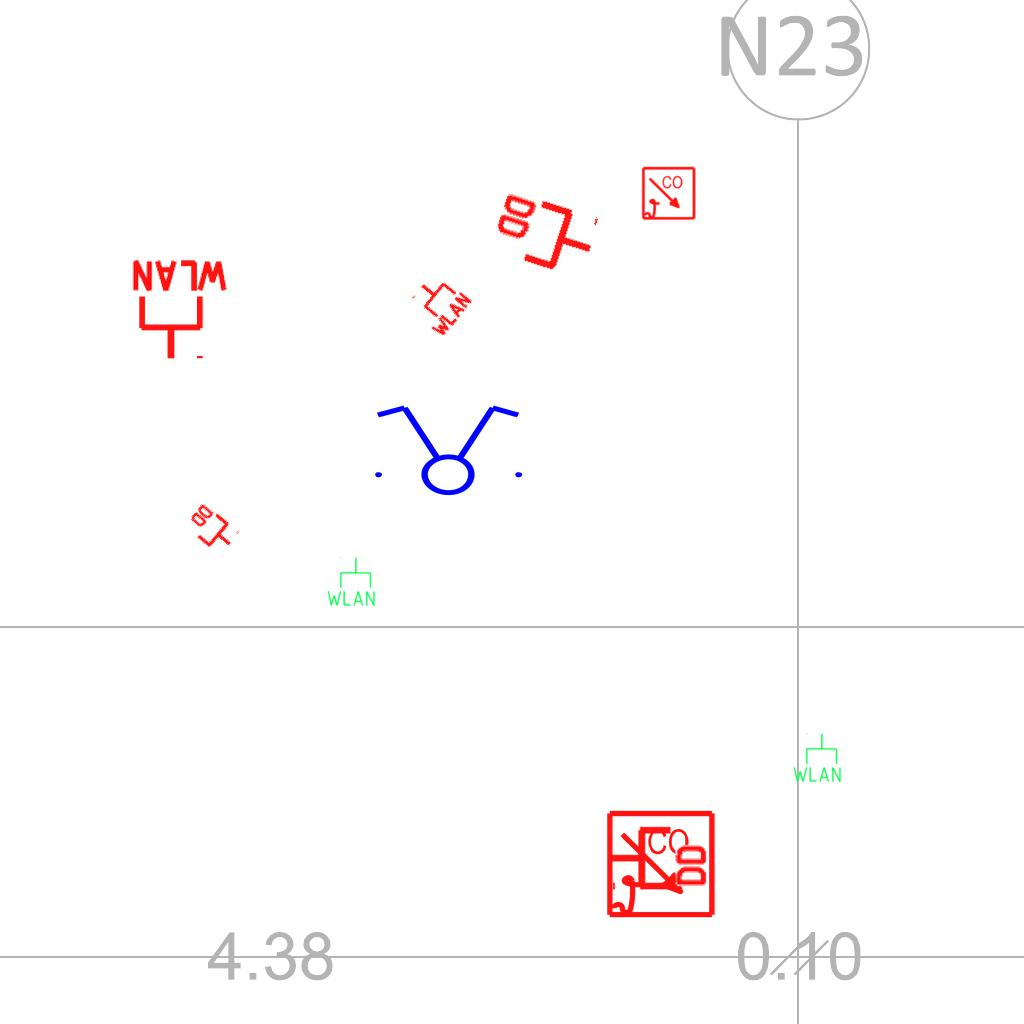Datenanschluss_zweifach: (483, 186, 604, 285), (608, 822, 711, 891), (180, 500, 242, 559)
ROA_Rauchmelder_optisch_mit_Signalgeber_(Sockelsirene): (605, 809, 718, 922), (641, 166, 697, 222)
Serienschalter: (363, 401, 531, 497)
WLAN: (128, 258, 232, 363), (401, 267, 475, 341), (325, 556, 377, 608), (791, 732, 843, 784)
